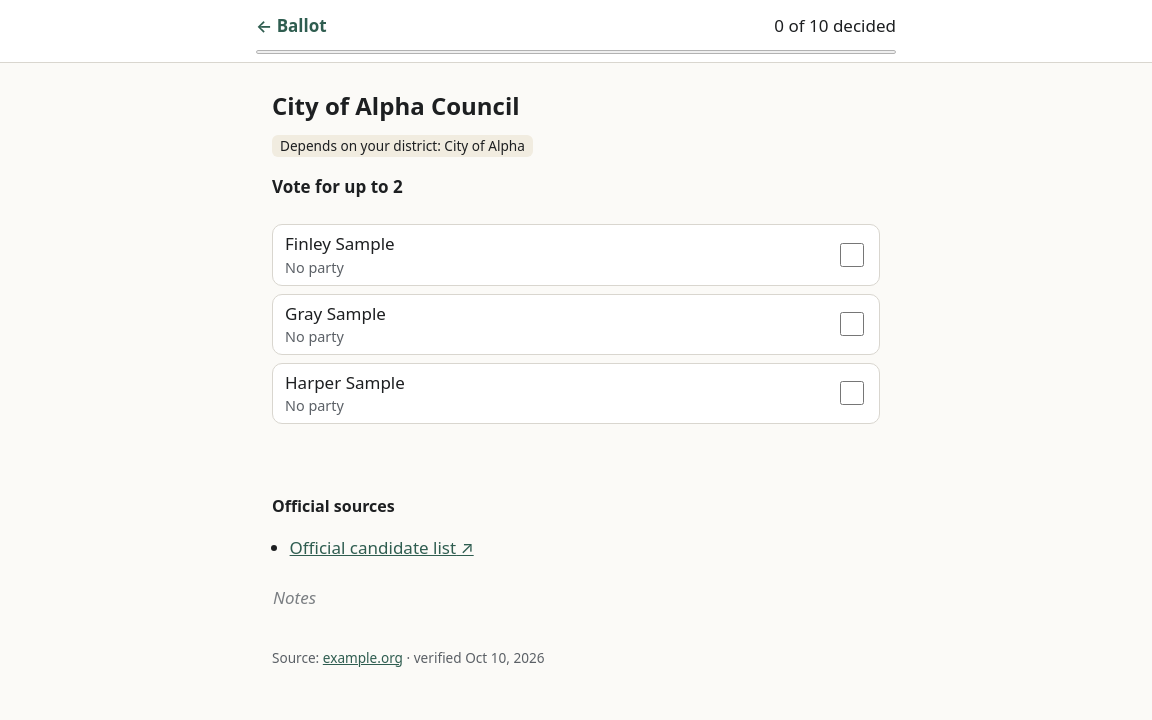
Test: candidate contests (REQ-10) › keeps the selection and explains the limit (AC-13)
Click the checkbox labelled "Finley Sample No party".
click(852, 255)  # box [840,243,864,267]
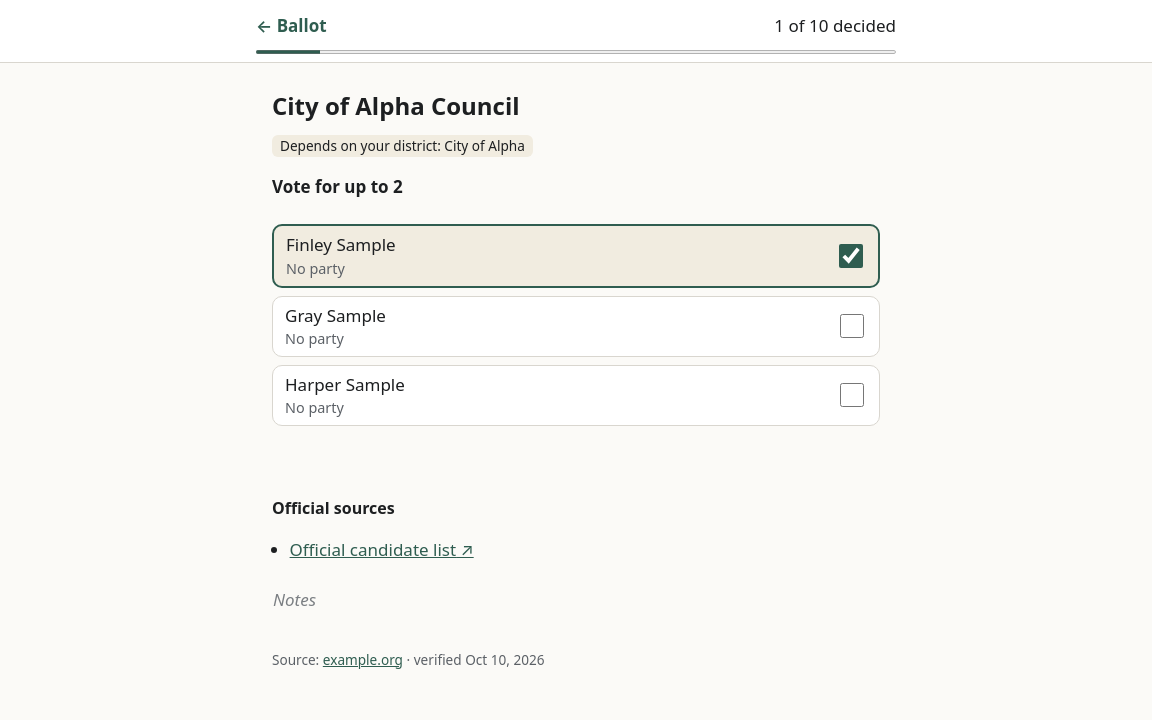
Click the checkbox labelled "Gray Sample No party".
click(852, 326)  # box [840,314,864,338]
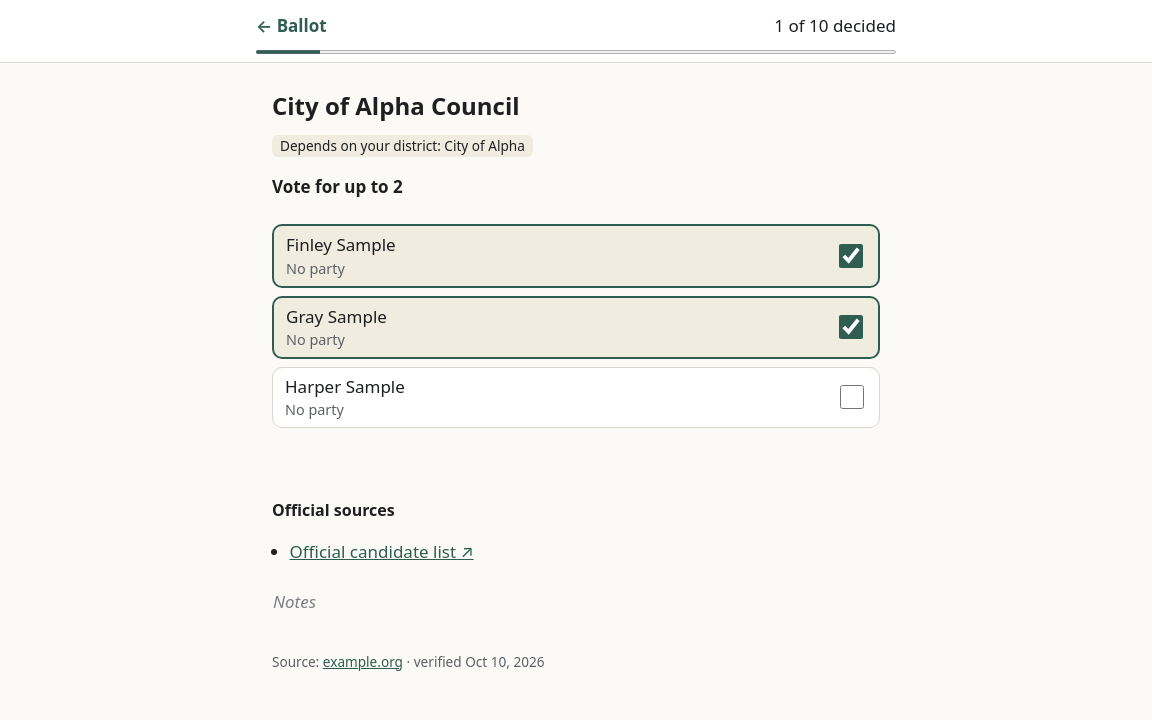
Click the checkbox labelled "Harper Sample No party".
click(852, 397)  # box [840,385,864,409]
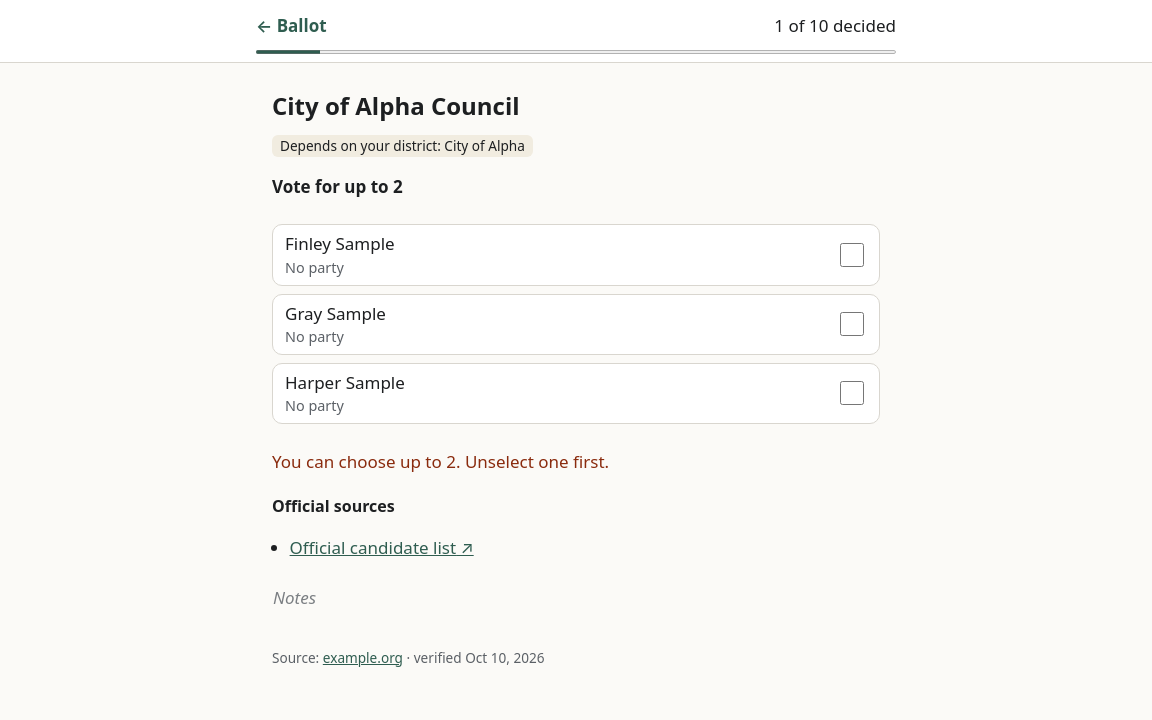
Expected: the text "You can choose up to 2. Unselect one first." is shown, [272,450,609,473]
